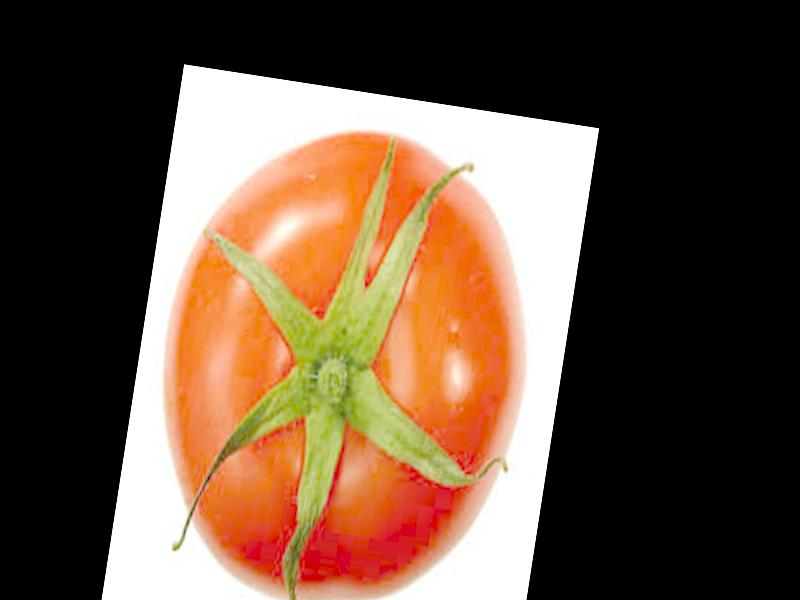Tomato: (130, 102, 557, 600)
